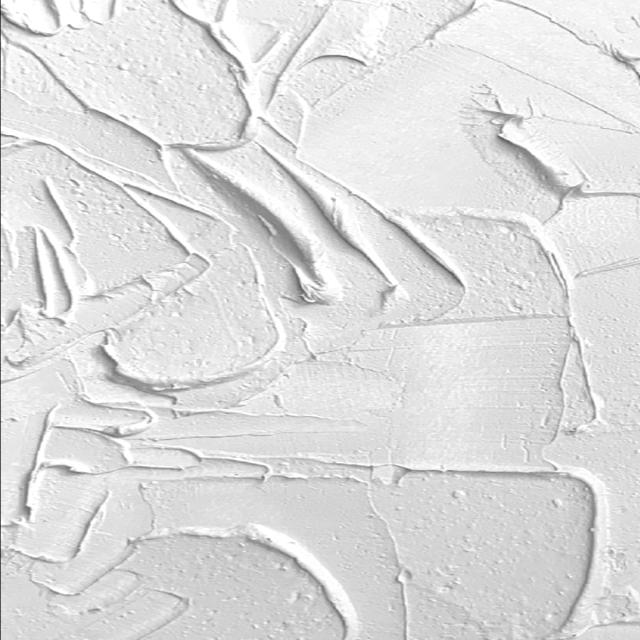trowels marks: (0, 0, 636, 640)
